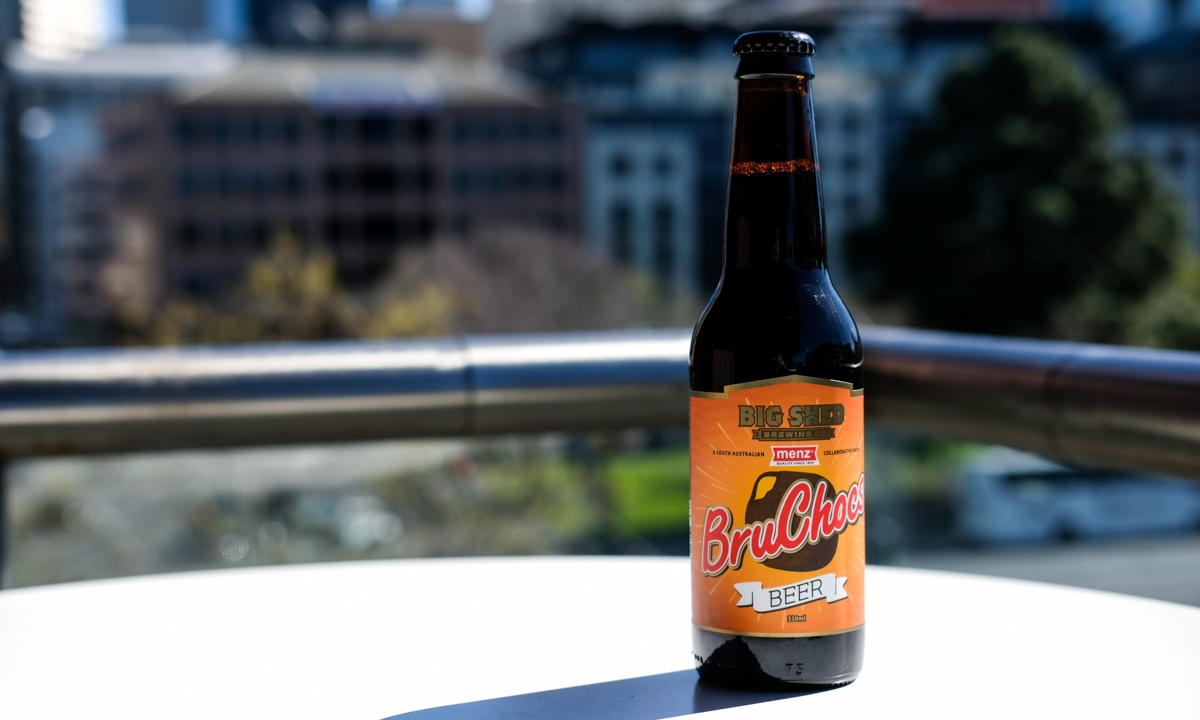beerBottle: (689, 38, 868, 688)
